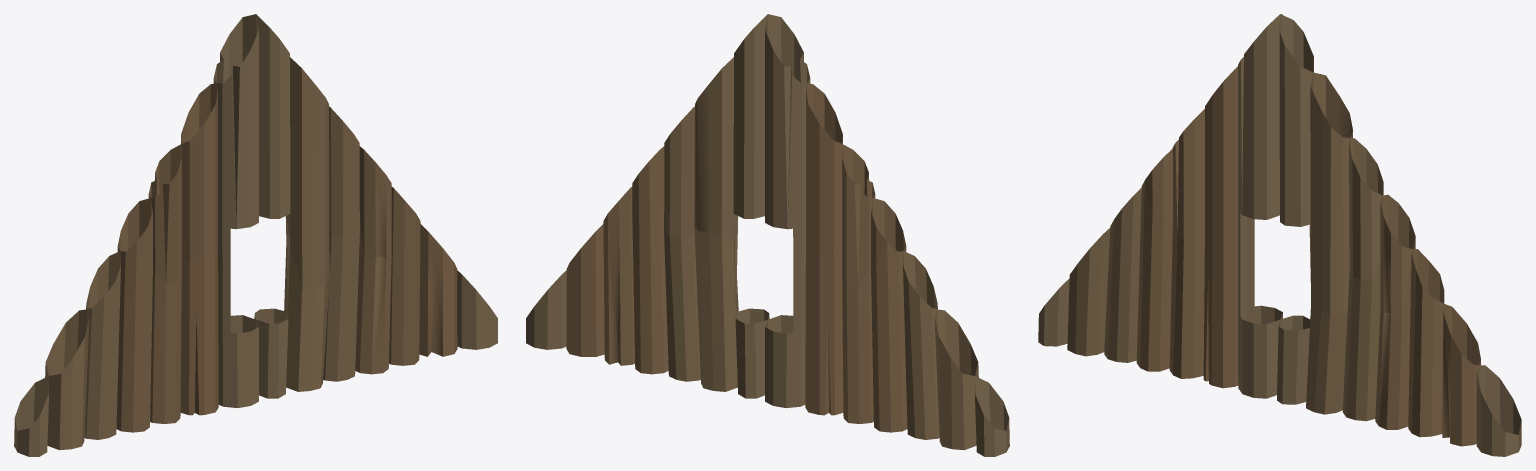
Rendered from rpgpp_ag_roof_end_01_6x5_wall_window_02d.fbx.
The picture shows the model from 3 angles, left to right: view 1: azimuth 30°, elevation 25°; view 2: azimuth 150°, elevation 25°; view 3: azimuth 330°, elevation 25°; orthographic projection.
Visible parts, largest first — view 1: rpgpp_ag_roof_end_01_6x5_wall_window_02d; view 2: rpgpp_ag_roof_end_01_6x5_wall_window_02d; view 3: rpgpp_ag_roof_end_01_6x5_wall_window_02d.
Part boxes in pixels (left/top/right/bottom): rpgpp_ag_roof_end_01_6x5_wall_window_02d: left=14, top=14, right=497, bottom=456; rpgpp_ag_roof_end_01_6x5_wall_window_02d: left=526, top=14, right=1009, bottom=456; rpgpp_ag_roof_end_01_6x5_wall_window_02d: left=1038, top=14, right=1521, bottom=456.
Bounding box in the file's own units: 6 × 4.57 × 0.4626.
